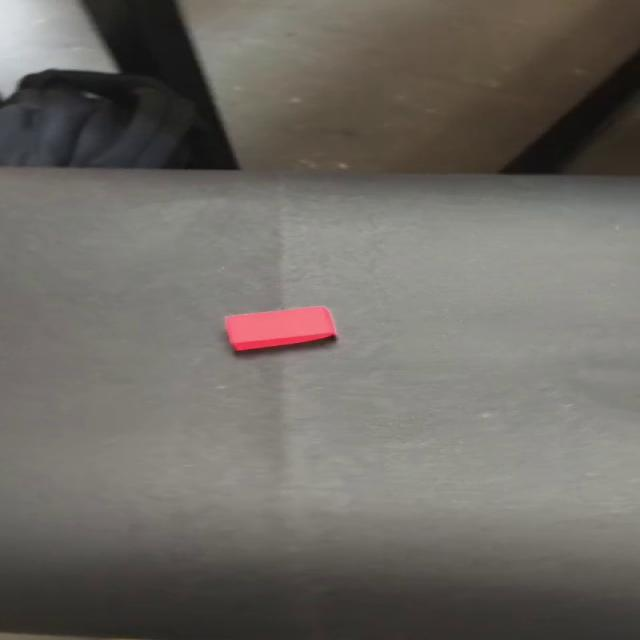red block: (223, 304, 337, 352)
